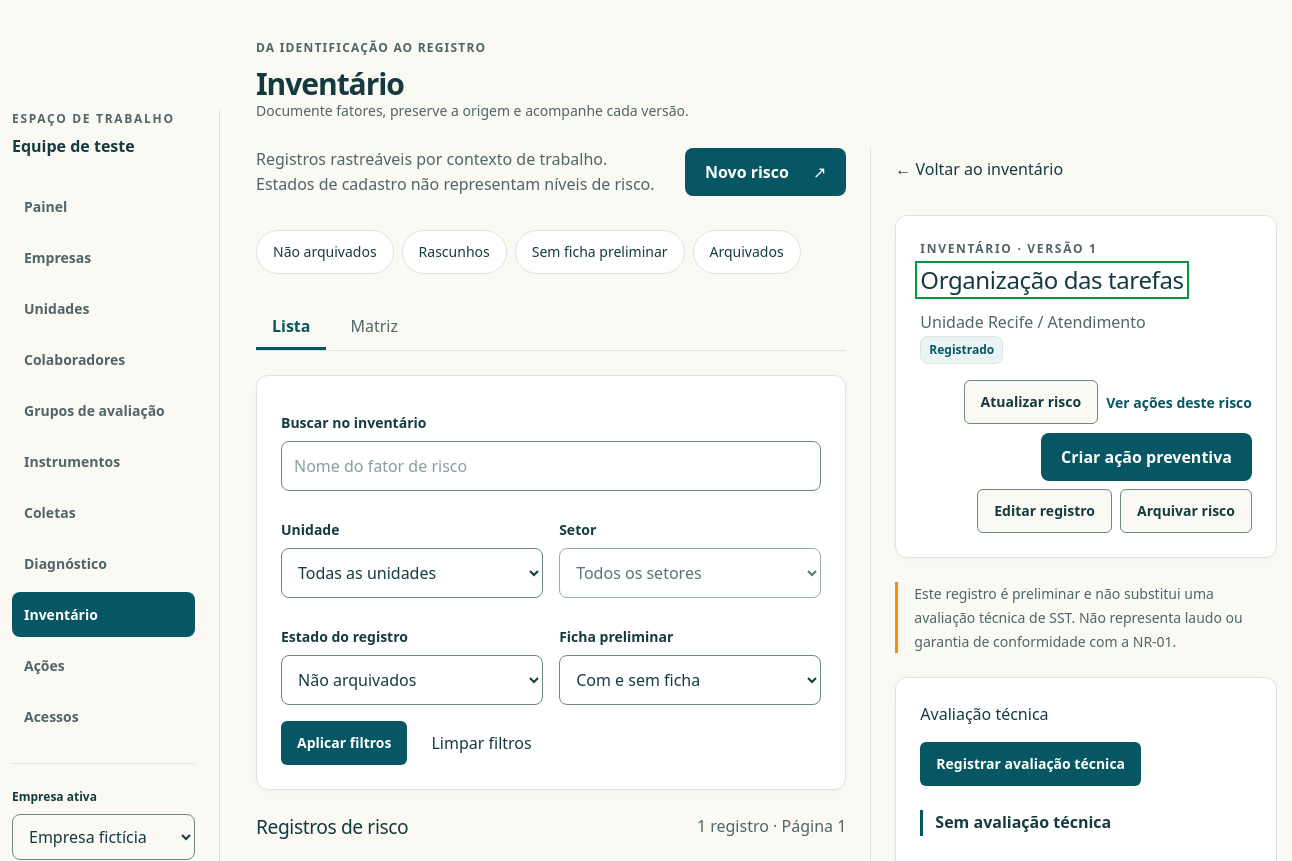
Test: explica catálogo vazio ao responsável técnico sem criar método presumido
Click the button "Registrar avaliação técnica".
click(1031, 764)  # box top-left (920, 742), bottom-right (1141, 786)
(page scrolled)
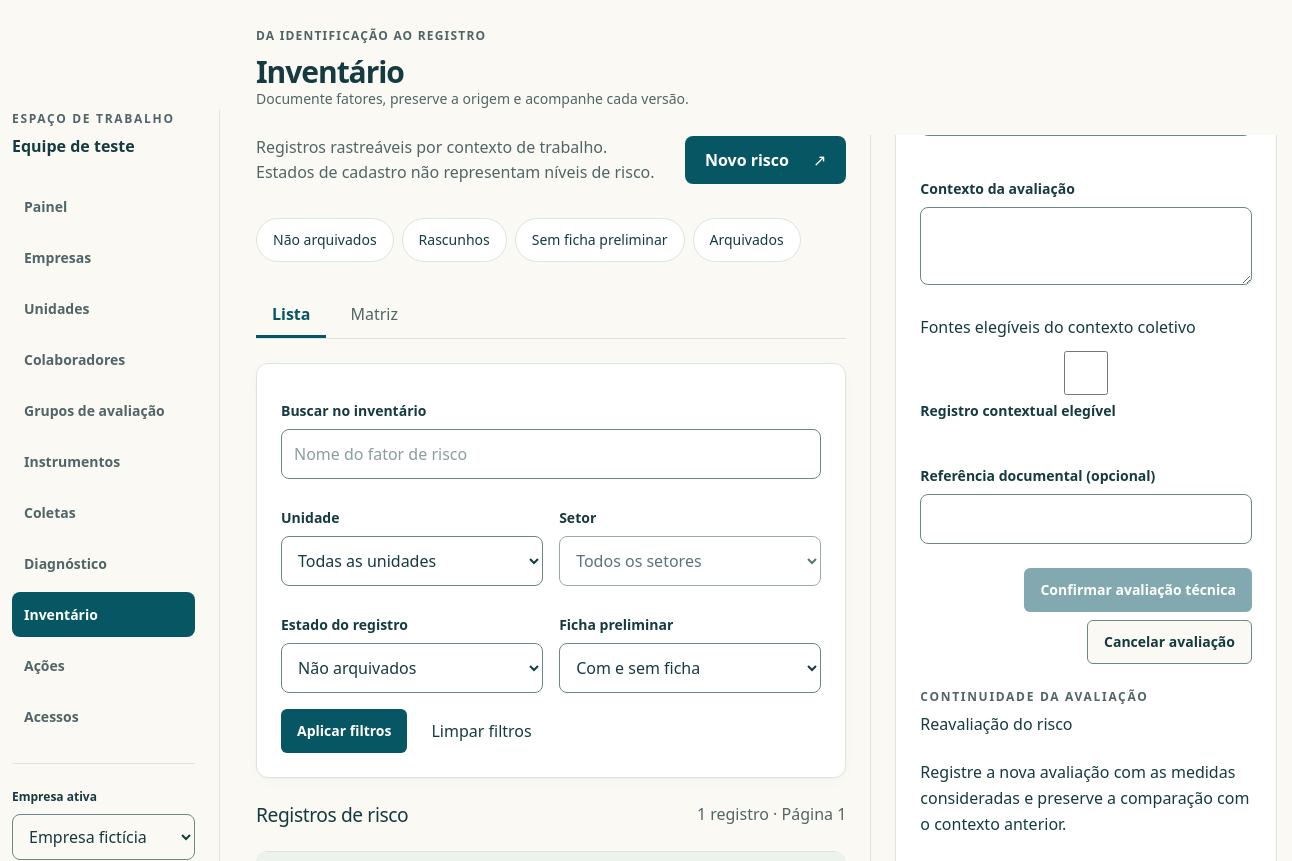
Expected: the button "Confirmar avaliação técnica" is disabled, top-left (1024, 568), bottom-right (1252, 612)
